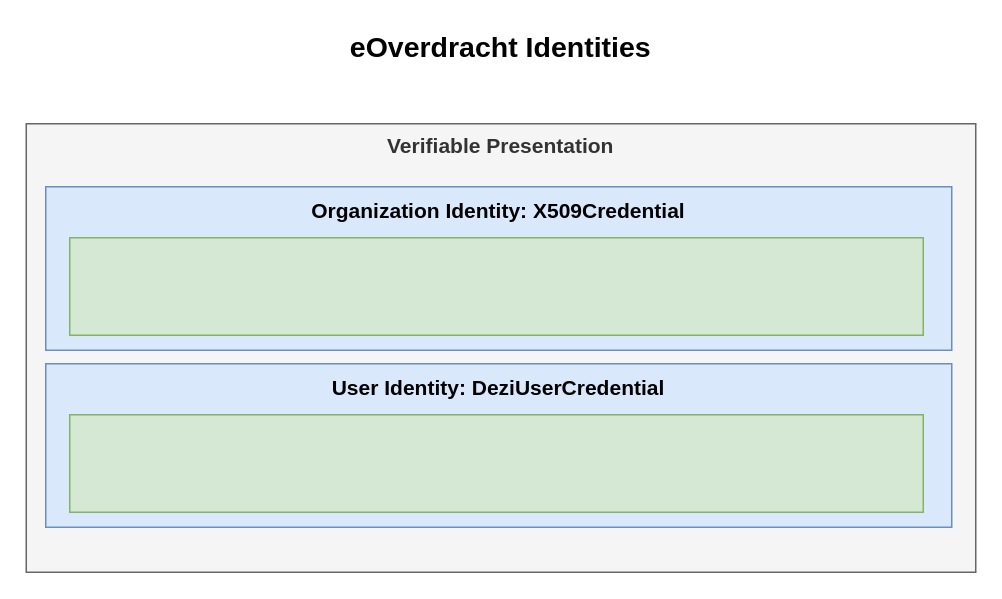
The diagram is 1002 pixels wide and 599 high, and some of its shapes have lost their labels. Here are the shapes that lost their labels. From the top down, the centre of each, then its label:
At point 495,285: "Trust Anchor: CIBG UZI Server Certificate".
At point 495,462: "Trust Anchor: CIBG Dezi Attestation".
